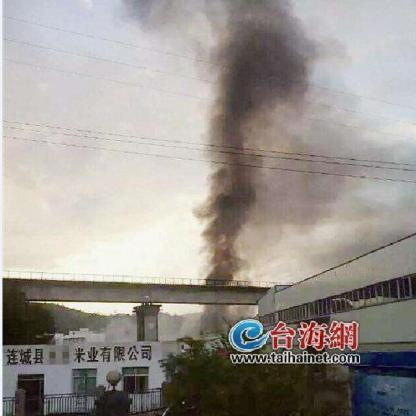smoke: (190, 81, 270, 294), (199, 0, 319, 109)
